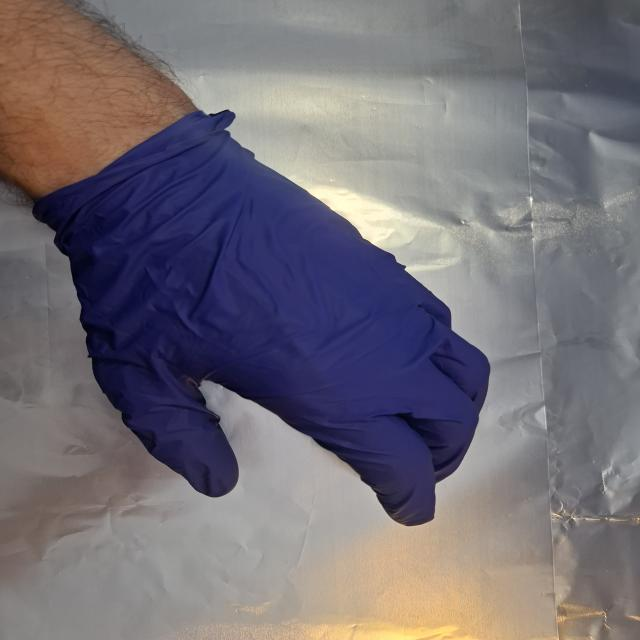glove_on: (61, 105, 494, 529)
